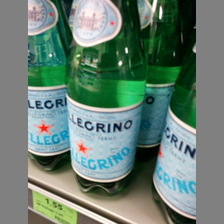water: (65, 1, 149, 195), (153, 31, 197, 224), (28, 1, 71, 174)
